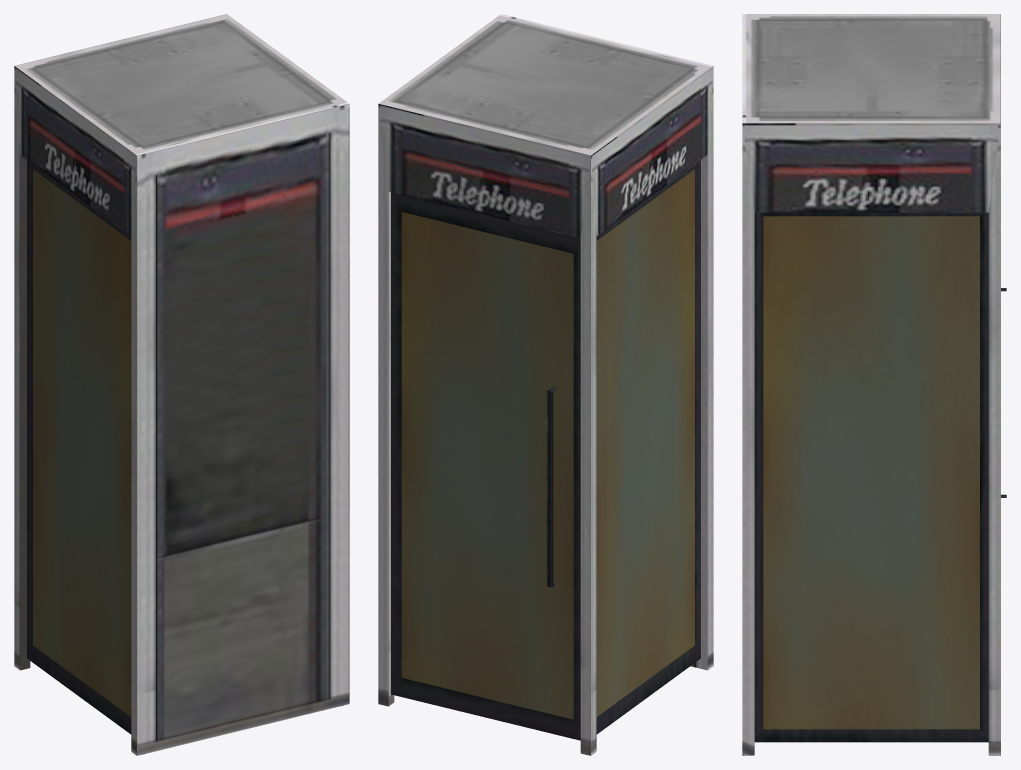
The model's file is Model_PhoneBooth.fbx.
The picture shows the model from 3 angles, left to right: view 1: azimuth 30°, elevation 25°; view 2: azimuth 150°, elevation 25°; view 3: azimuth 270°, elevation 25°; orthographic projection. The views are drawn at different scales.
Parts seen in each view (by area): view 1: PhoneBooth; view 2: PhoneBooth; view 3: PhoneBooth.
Boxes of the visible parts, box(x1,y1,x2,y2) form: PhoneBooth: box(14, 14, 349, 755); PhoneBooth: box(378, 14, 713, 755); PhoneBooth: box(742, 14, 1006, 755).
Bounding box in the file's own units: 86.29 × 233 × 88.17.
